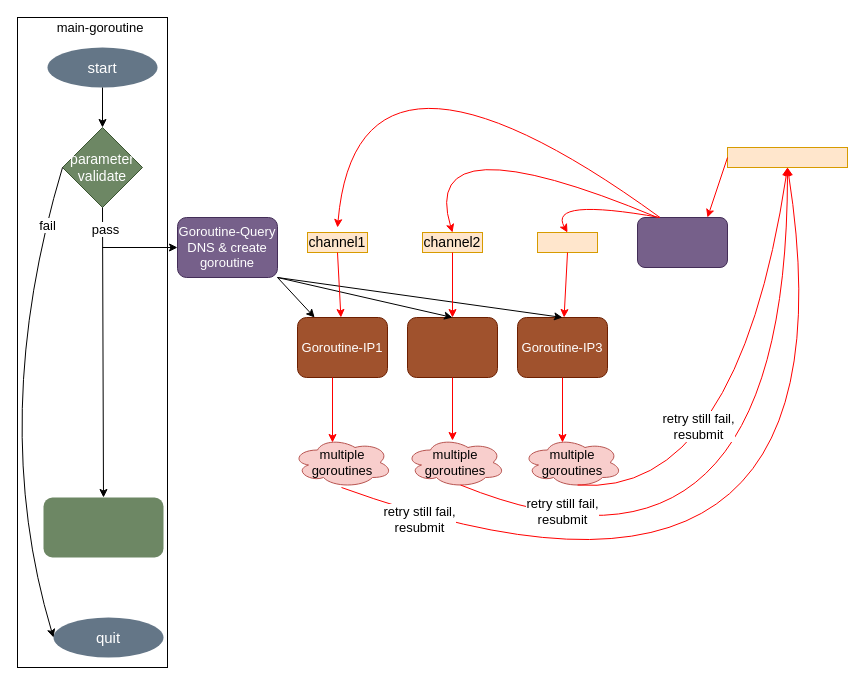
Some shapes in this 865 by 685 pixel diagram are drawn without their labels. The centre of each missing label's shape, as x and y in pixels:
all request completed or timeout: the point at 103,527
channel3: the point at 567,242
Goroutine-IP2: the point at 452,347
Goroutine-load balance: the point at 682,242
request channel: the point at 787,157
